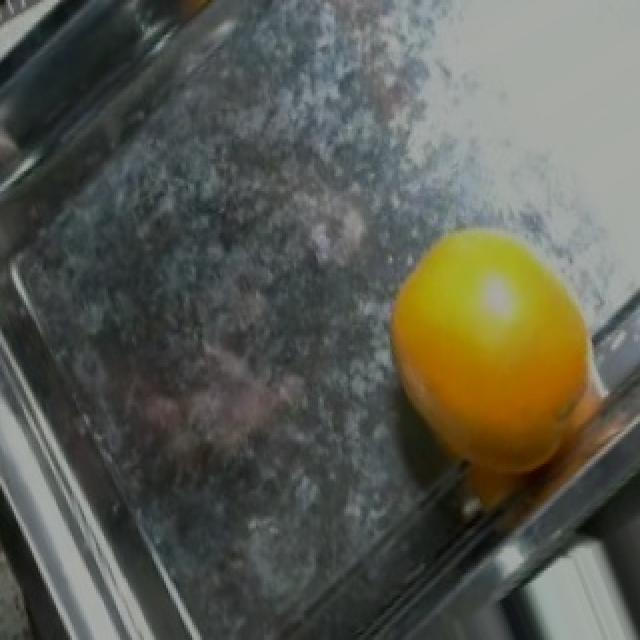Fruit: (362, 208, 632, 501)
